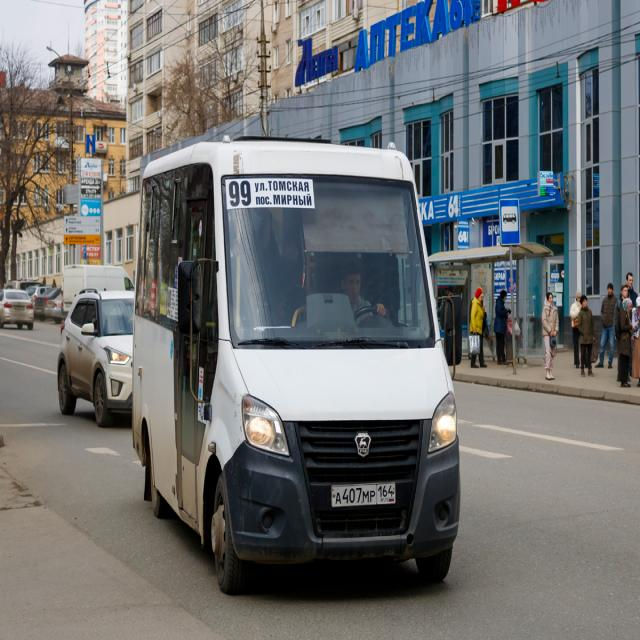number-of-bus: (227, 180, 255, 209)
